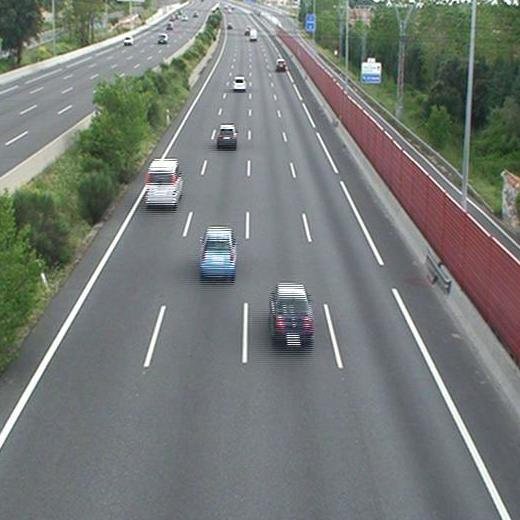car: (270, 284, 312, 343), (200, 227, 236, 276), (217, 124, 237, 146), (232, 77, 247, 90), (276, 58, 286, 69)
van: (145, 160, 182, 205), (248, 28, 258, 40)
